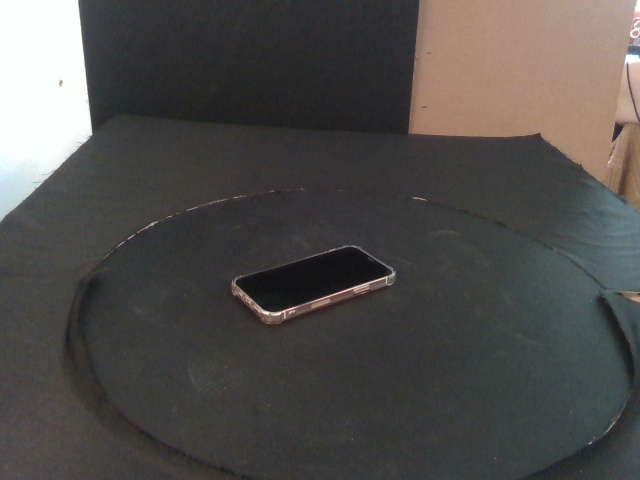phone: (231, 244, 397, 325)
